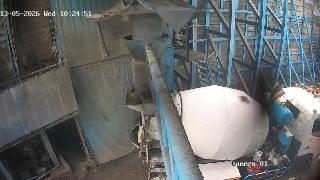cement_mixer_truck: (125, 86, 320, 180)
swing_chute: (123, 33, 172, 99)
